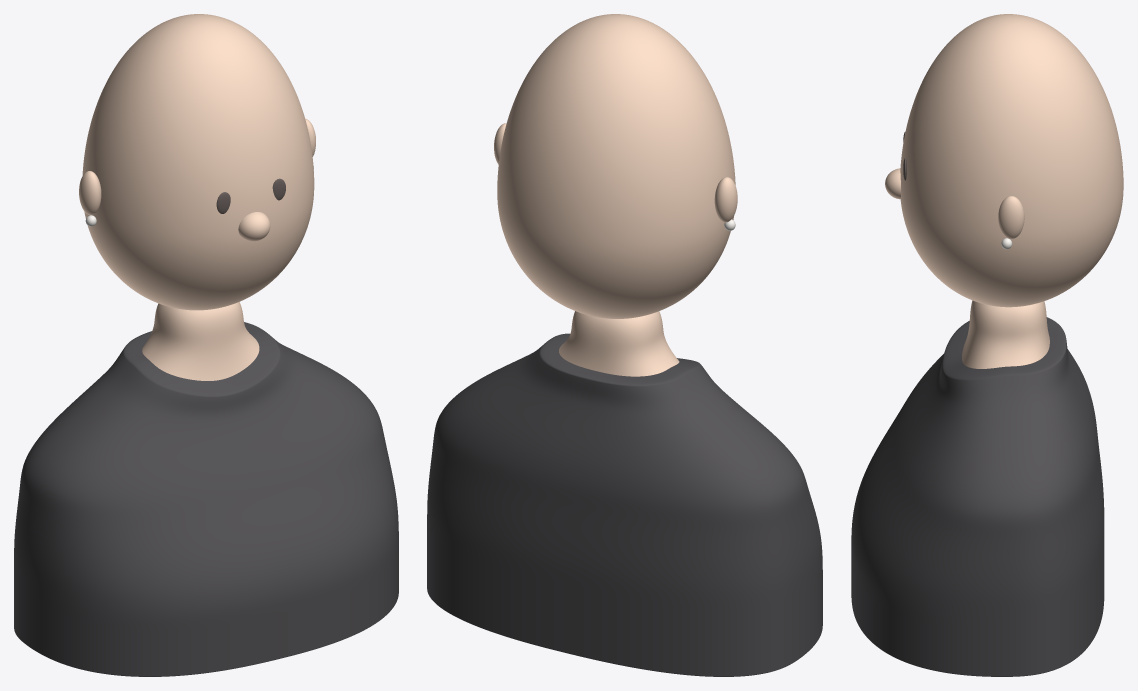
Rendered from body.glb.
The picture shows the model from 3 angles, left to right: view 1: azimuth 30°, elevation 25°; view 2: azimuth 150°, elevation 25°; view 3: azimuth 270°, elevation 25°; orthographic projection. The views are drawn at different scales.
Visible parts, largest first — view 1: top, head, body, ear_l, nose; view 2: top, head, body, ear_l; view 3: top, head, body, ear_r.
Part boxes in pixels (<box>): top: <box>14,322,398,676</box>; head: <box>82,14,314,310</box>; body: <box>142,302,259,380</box>; ear_l: <box>79,171,101,215</box>; nose: <box>238,212,270,241</box>; top: <box>427,333,822,676</box>; head: <box>497,14,735,318</box>; body: <box>559,311,679,376</box>; ear_l: <box>714,177,737,222</box>; top: <box>851,317,1104,676</box>; head: <box>900,14,1123,307</box>; body: <box>962,300,1049,368</box>; ear_r: <box>998,196,1024,239</box>.
Bounding box in the file's own units: 2.61 × 4.15 × 1.79.
